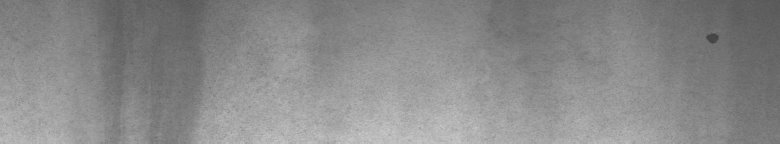fi: (703, 26, 723, 50)
